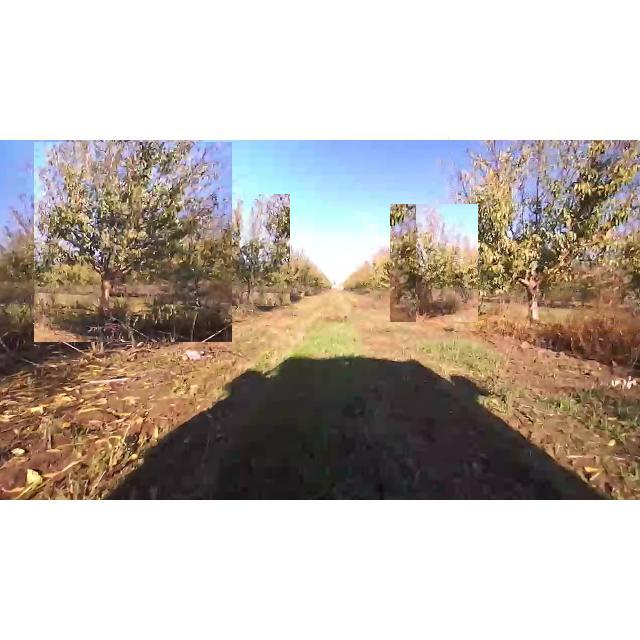direk: (34, 142, 232, 342), (452, 140, 640, 330), (390, 204, 478, 322), (204, 194, 290, 306)
